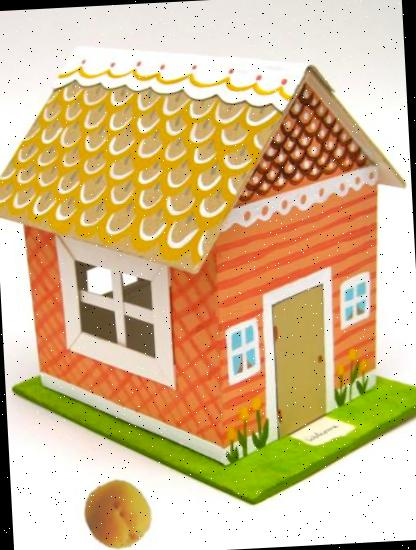Peach: (81, 478, 155, 550)
